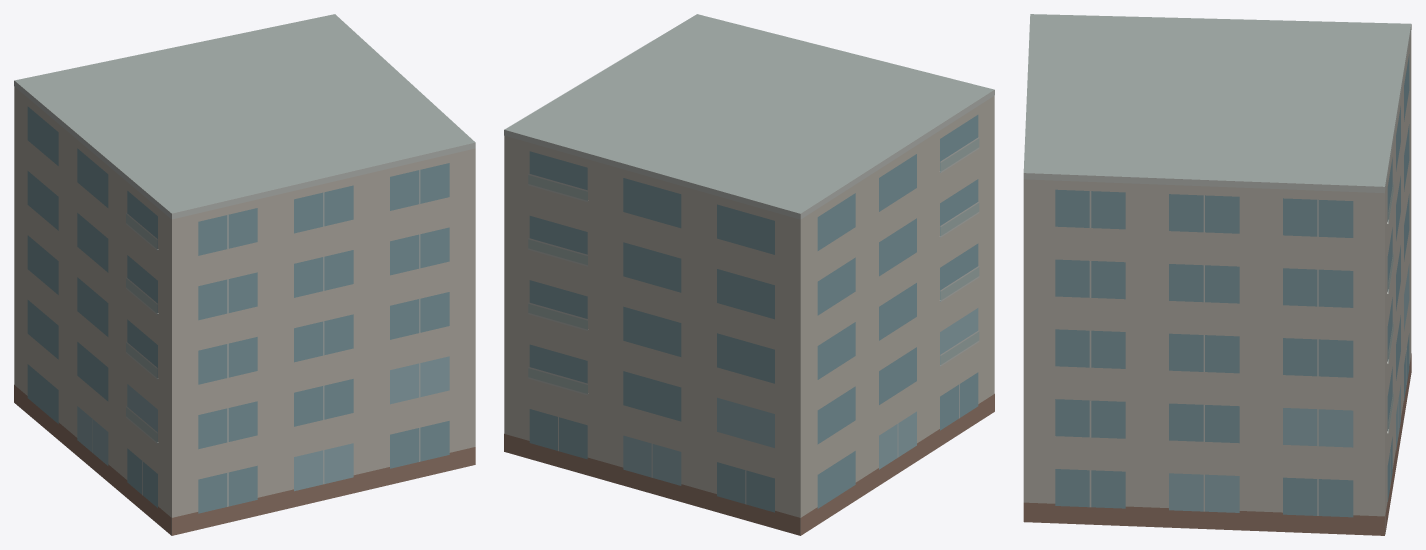
The model's file is survey-upis-32833477.glb.
3 views of the same model, side by side, from view 1: azimuth 30°, elevation 25°; view 2: azimuth 150°, elevation 25°; view 3: azimuth 270°, elevation 25° (orthographic). The views are drawn at different scales.
Parts seen in each view (by area): view 1: survey-upis-32833477.tmp; view 2: survey-upis-32833477.tmp; view 3: survey-upis-32833477.tmp.
Part boxes in pixels (x1,y1,x2,y2): survey-upis-32833477.tmp: (14,14,475,535); survey-upis-32833477.tmp: (504,14,994,535); survey-upis-32833477.tmp: (1023,14,1411,535).
Size of the model in its own units: 14.3 by 13.45 by 13.55.
